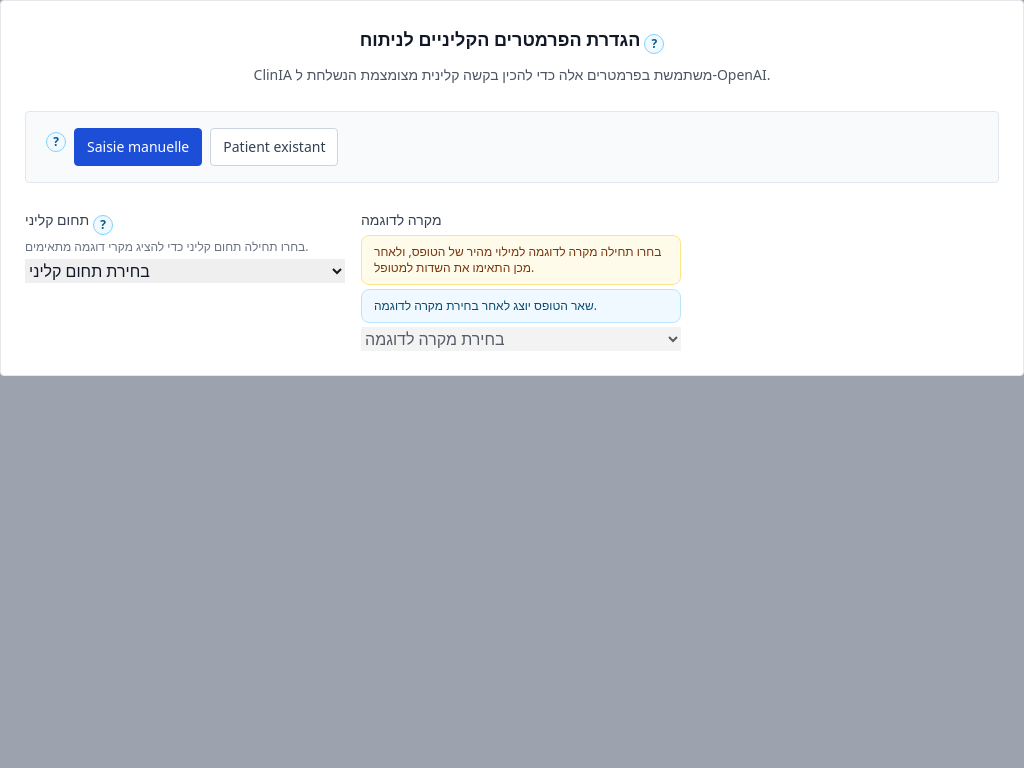
Scenario: ClinicalForm › keeps the hypertension example medical terms in English for he
Select "רפואה כללית" in the dropdown with id "clinical-field" at (185, 271), box [25,259,345,283]
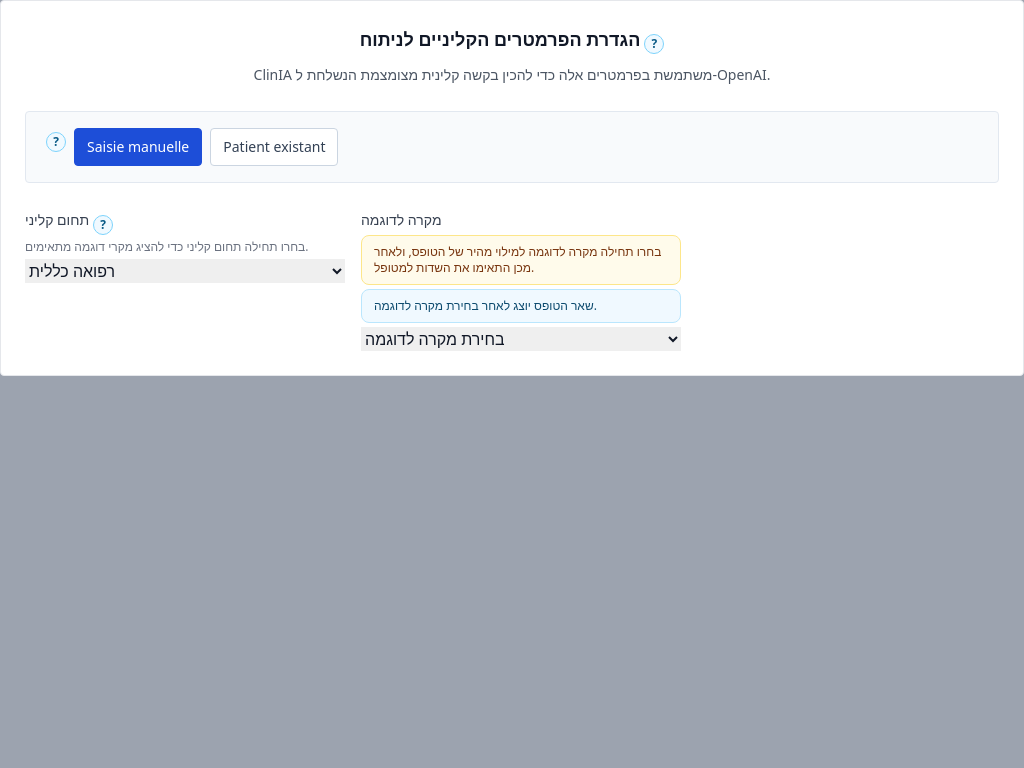
Select "Hypertension" in the dropdown with id "clinical-example-case" at (521, 339), box [361,327,681,351]
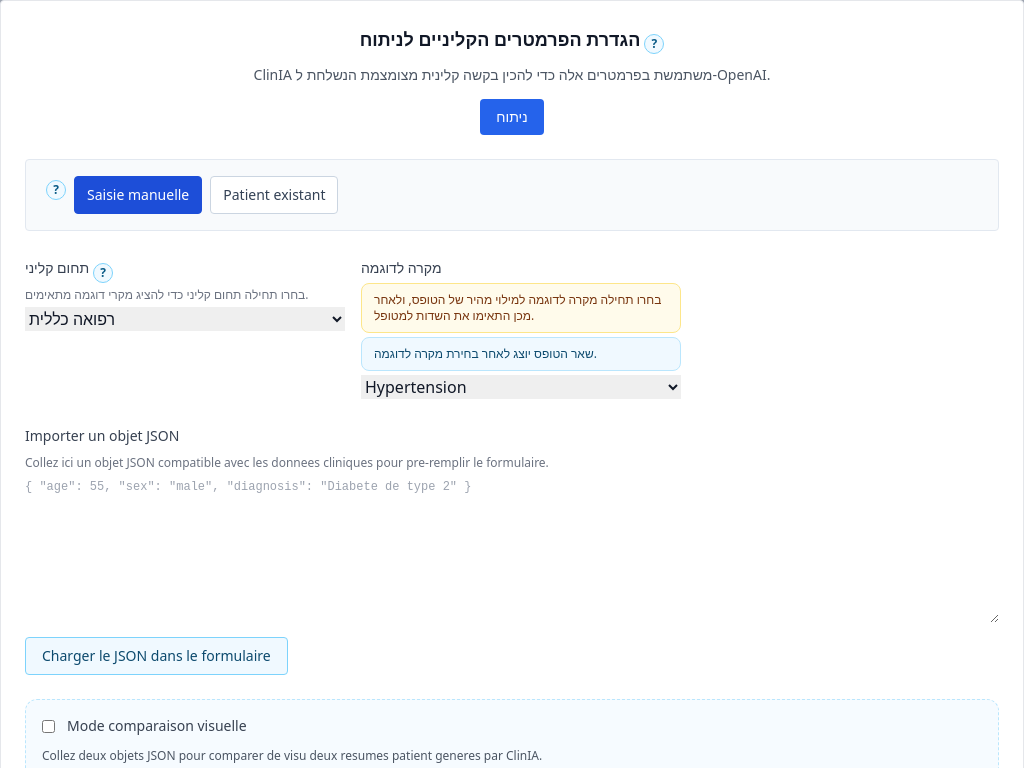
Expected: the button "ניתוח" is shown, [480,99,544,135]
